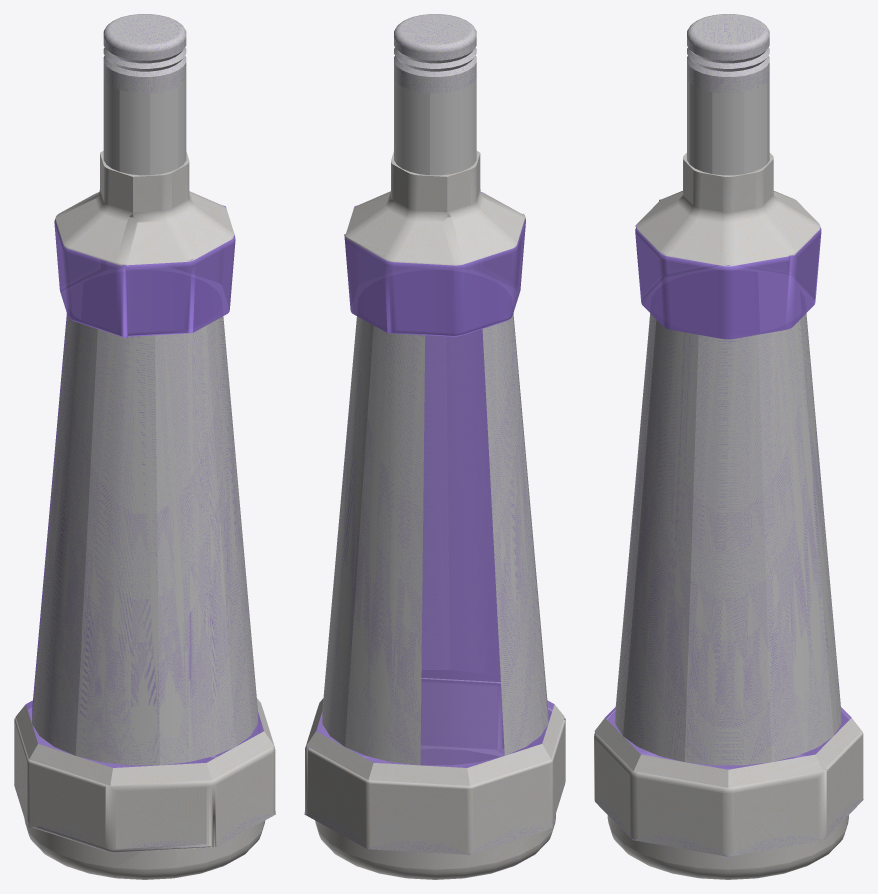
3 renders of one model, left to right at view 1: azimuth 30°, elevation 25°; view 2: azimuth 150°, elevation 25°; view 3: azimuth 270°, elevation 25°, orthographic.
Visible parts, largest first — view 1: mesh1_mesh1-geometry; view 2: mesh1_mesh1-geometry; view 3: mesh1_mesh1-geometry.
Boxes of the visible parts, x1,y1,x2,y2 form: mesh1_mesh1-geometry: (14,14,275,879); mesh1_mesh1-geometry: (304,14,565,879); mesh1_mesh1-geometry: (594,14,863,879).
Size of the model in its own units: 0.2802 by 0.9185 by 0.2788.
